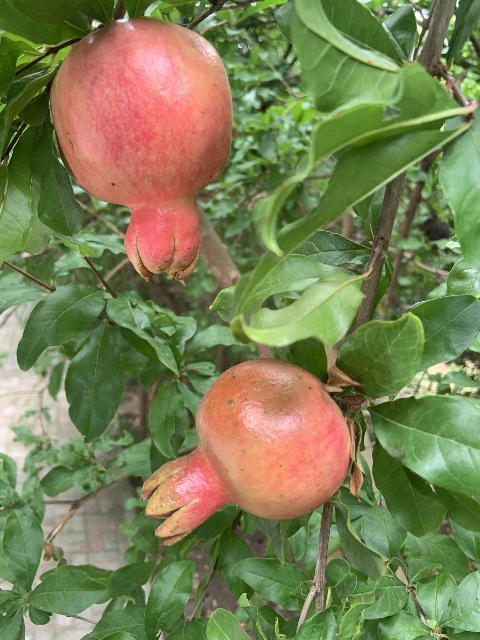ripe: (49, 17, 233, 280), (142, 358, 351, 546)
